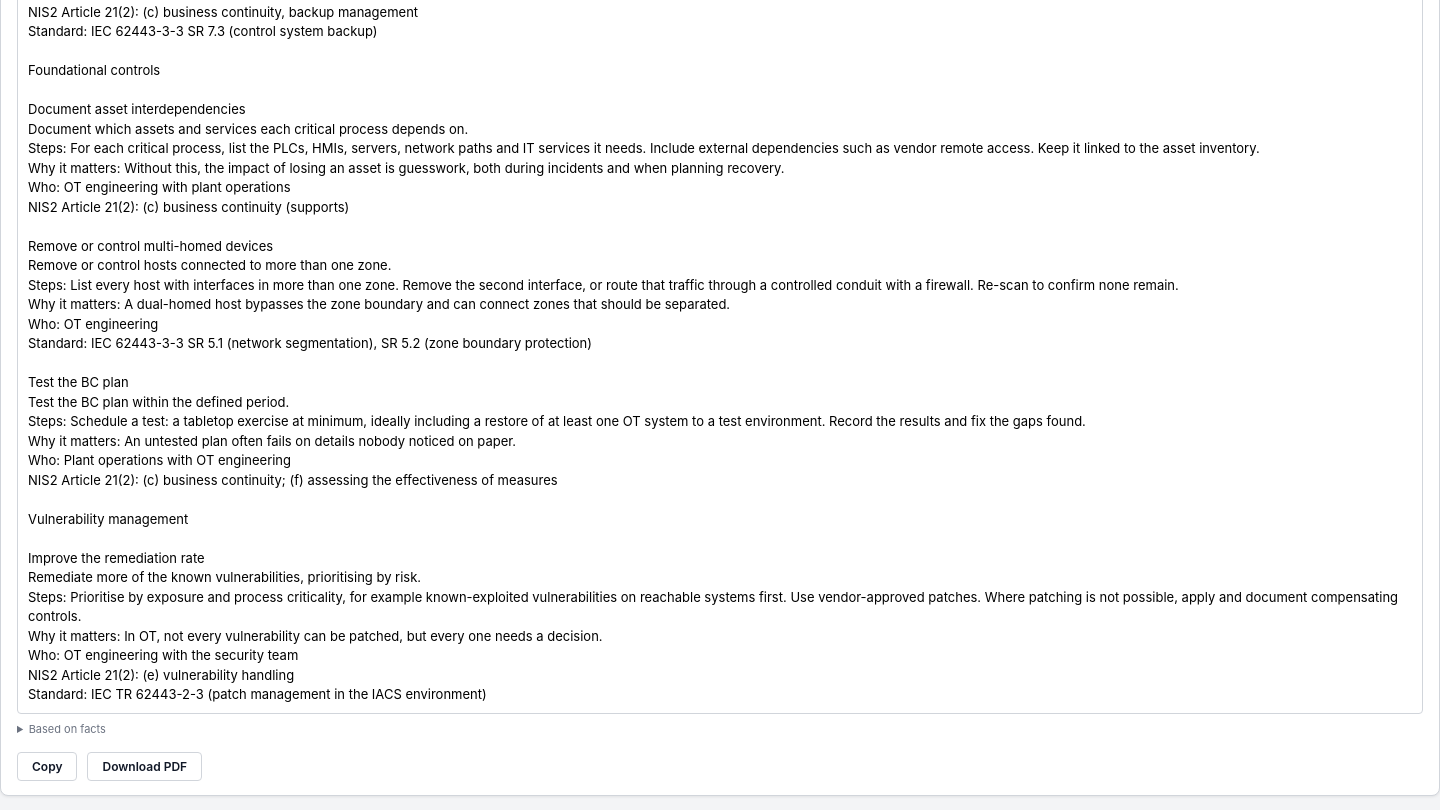
Test: Download PDF (Step 6) › a failure says so
(page scrolled)
What coordinates should you click on to do the following:
click the button "Download PDF"
I would click on:
 (145, 766)
Its box is [88,752,202,781].
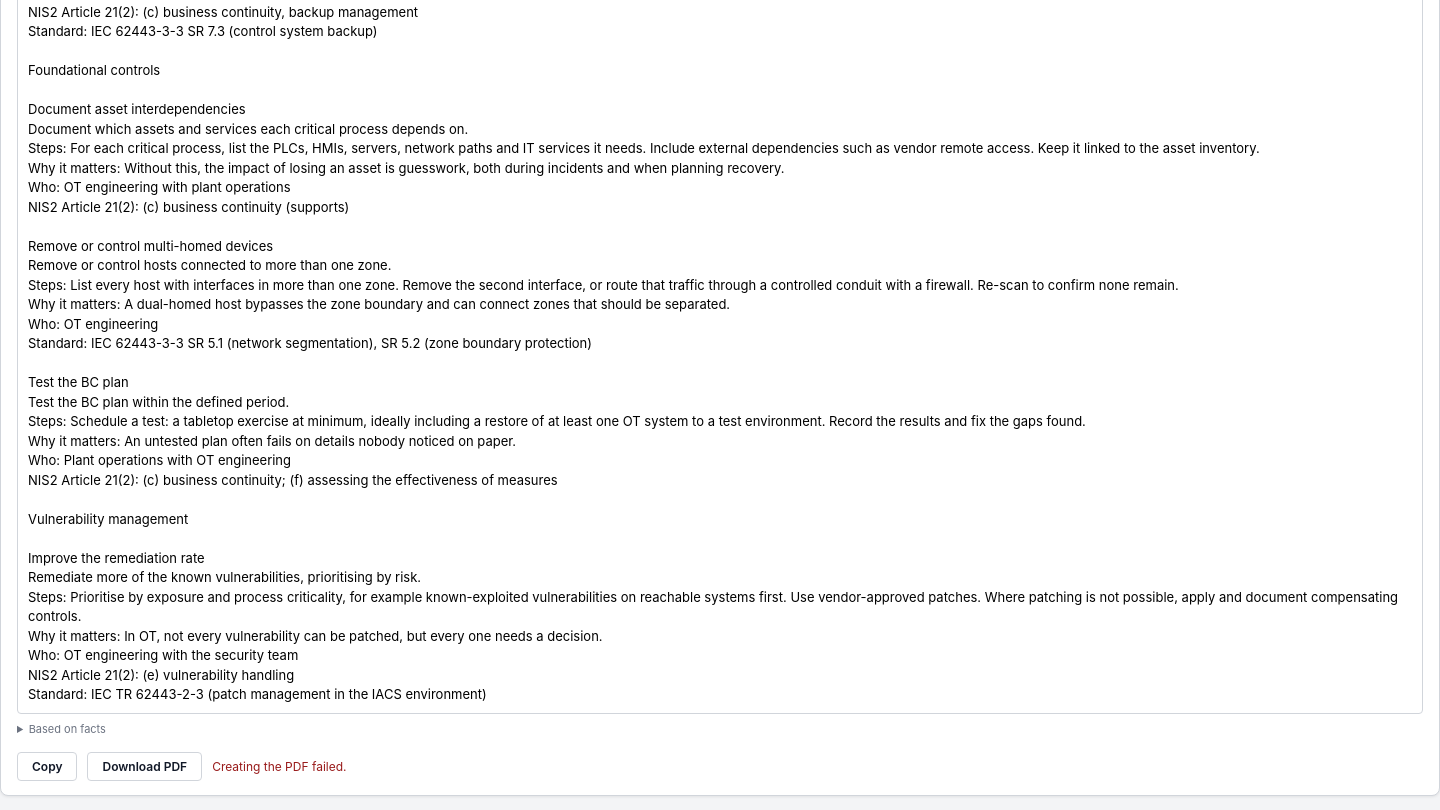
Check: the text "Creating the PDF failed." is shown, box [212,759,346,774]
